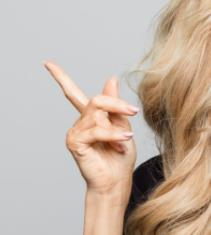up: (39, 64, 140, 193)
